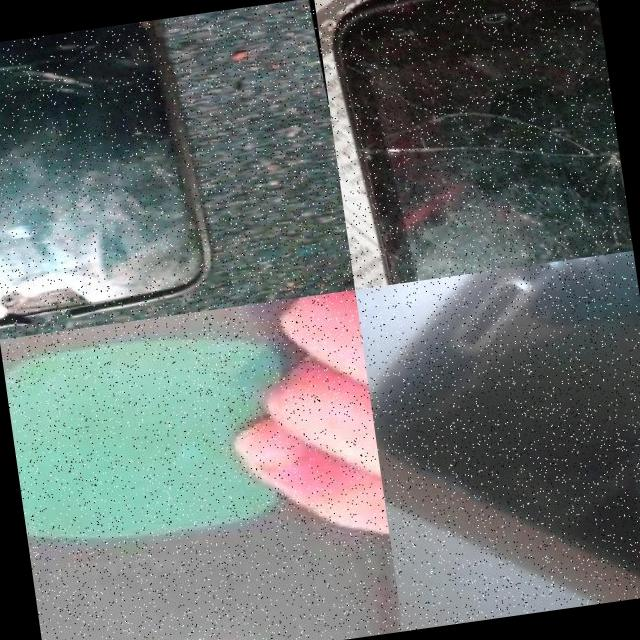screen crack: (352, 76, 634, 286), (0, 261, 125, 339), (527, 251, 640, 332), (112, 17, 182, 56)
